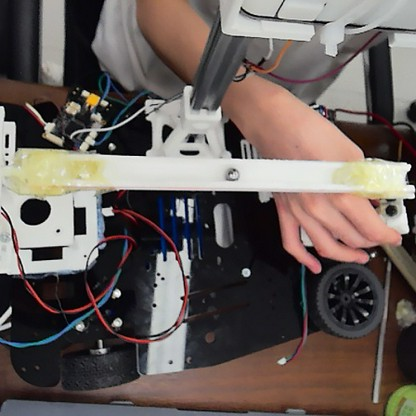ironball: (221, 164, 240, 182)
